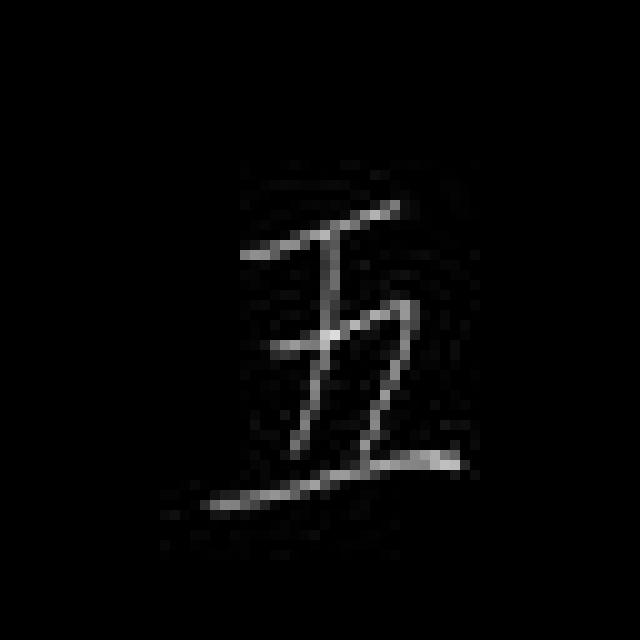5 -five-: (202, 202, 470, 517)
